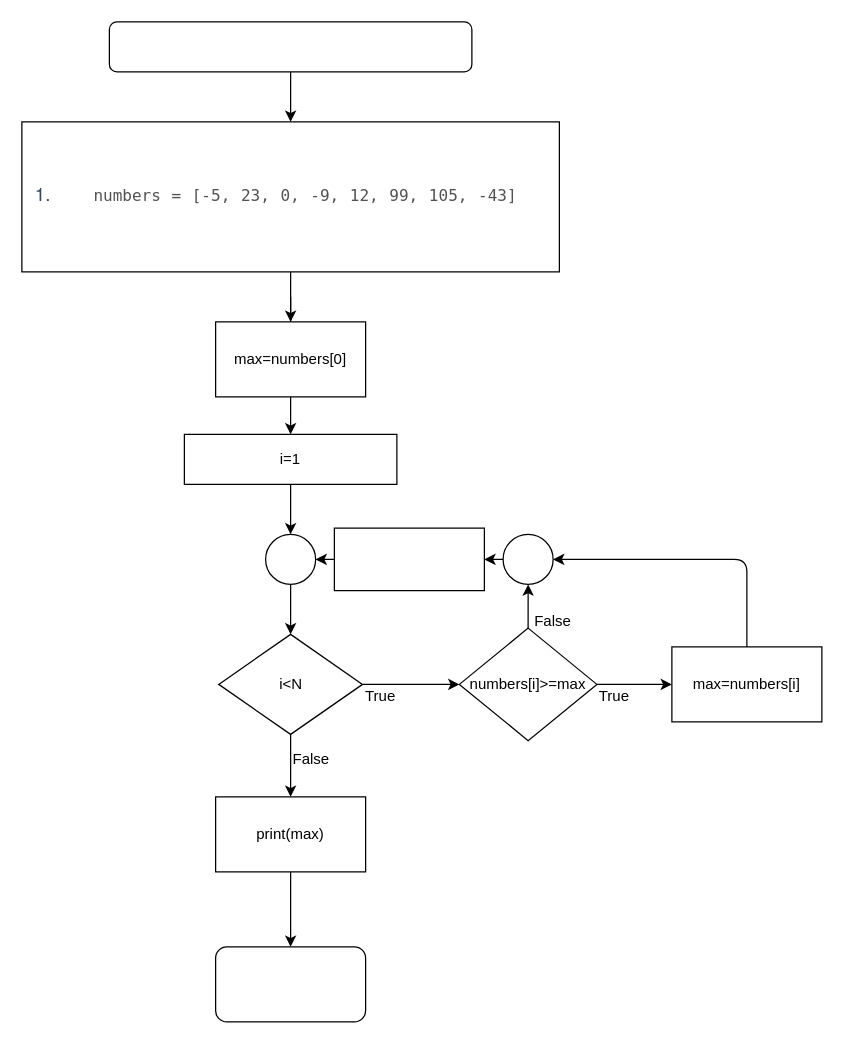
The diagram is 844 pixels wide and 1044 high, and some of its shapes have lost their labels. The shapes that lost their labels are listed below. From the top down, each one's box as (x1, y1, x2, y2) in pixels, then its label:
(108, 21, 472, 72): Start
(333, 527, 484, 591): i=i+1
(214, 946, 366, 1022): End
